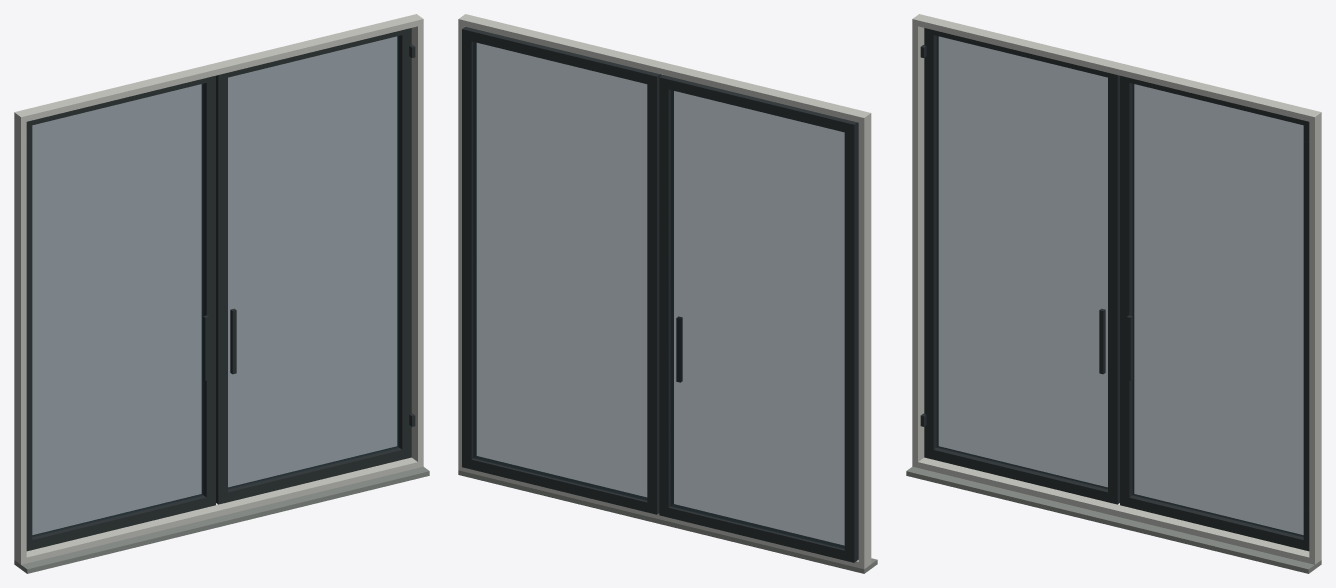
Rendered from moderno_rectangle_porton.glb.
The picture shows the model from 3 angles, left to right: view 1: azimuth 30°, elevation 25°; view 2: azimuth 150°, elevation 25°; view 3: azimuth 330°, elevation 25°; orthographic projection.
Visible parts, largest first — view 1: door_glass#0001, door_glass#0002, door_reveal#0001, door_leaf_frame#0002, door_leaf_frame#0001, door_threshold#0001, door_moulding#0001; view 2: door_glass#0001, door_glass#0002, door_leaf_frame#0001, door_leaf_frame#0002, door_reveal#0001, door_threshold#0001; view 3: door_glass#0002, door_glass#0001, door_reveal#0001, door_leaf_frame#0001, door_leaf_frame#0002, door_threshold#0001, door_moulding#0008.
Boxes of the visible parts, <box> form: door_glass#0001: <box>32,84,203,536</box>; door_glass#0002: <box>228,36,398,489</box>; door_reveal#0001: <box>14,14,423,564</box>; door_leaf_frame#0002: <box>216,28,411,504</box>; door_leaf_frame#0001: <box>26,75,215,551</box>; door_threshold#0001: <box>14,466,429,573</box>; door_moulding#0001: <box>26,27,417,556</box>; door_glass#0001: <box>670,90,844,548</box>; door_glass#0002: <box>473,42,647,500</box>; door_leaf_frame#0001: <box>659,75,858,562</box>; door_leaf_frame#0002: <box>462,27,661,514</box>; door_reveal#0001: <box>458,14,871,569</box>; door_threshold#0001: <box>458,470,877,573</box>; door_glass#0002: <box>1132,84,1303,536</box>; door_glass#0001: <box>936,36,1107,489</box>; door_reveal#0001: <box>912,14,1321,564</box>; door_leaf_frame#0001: <box>924,28,1119,504</box>; door_leaf_frame#0002: <box>1120,75,1309,551</box>; door_threshold#0001: <box>906,466,1321,573</box>; door_moulding#0008: <box>922,20,1315,563</box>.
Bounding box in the file's own units: 3.2 × 3.44 × 0.225.
